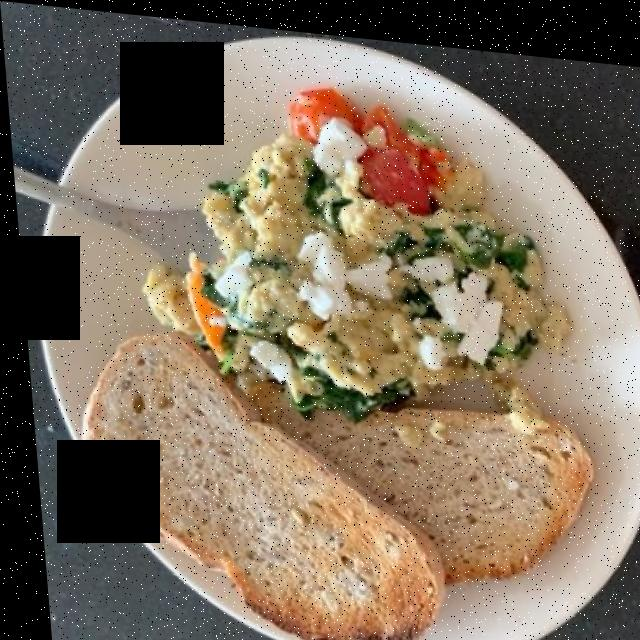bread-5-grain: (67, 318, 580, 628)
egg-scrambled-prepared: (133, 105, 564, 393)
feta: (197, 108, 500, 356)
tomato-raw: (277, 85, 451, 206)
